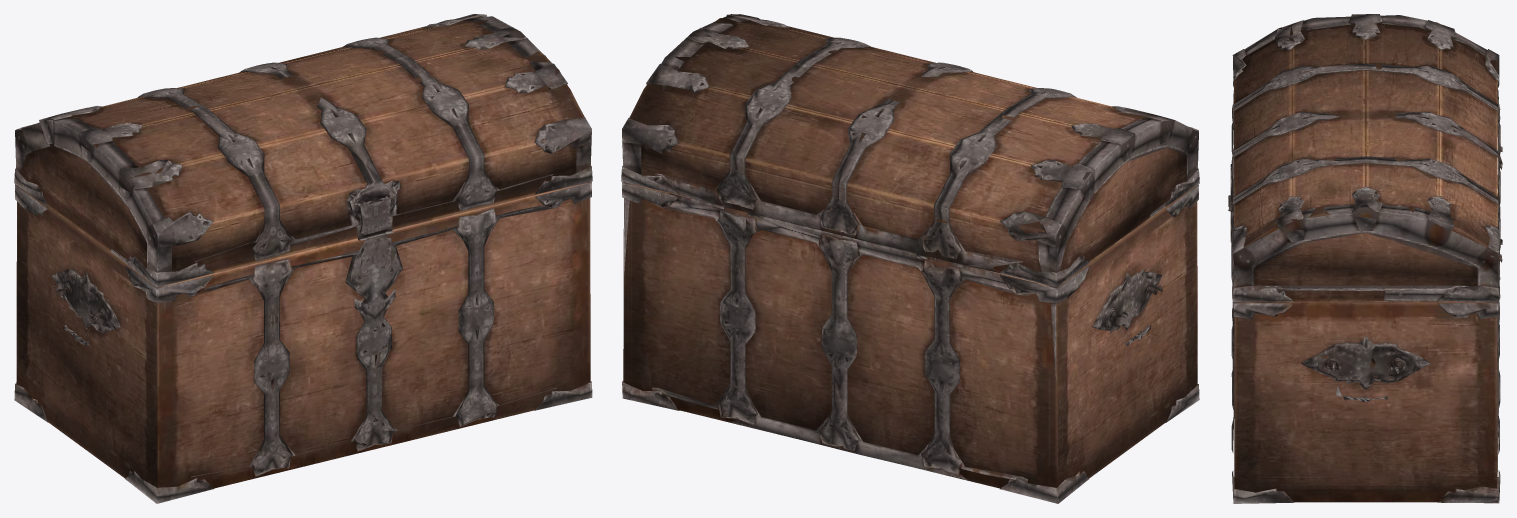
Rendered from treasure_chest.glb.
3 views of the same model, side by side, from view 1: azimuth 30°, elevation 25°; view 2: azimuth 150°, elevation 25°; view 3: azimuth 270°, elevation 25° (orthographic). The views are drawn at different scales.
Parts seen in each view (by area): view 1: treasure_chest_bottom; view 2: treasure_chest_bottom; view 3: treasure_chest_bottom.
Boxes of the visible parts, x1,y1,x2,y2 form: treasure_chest_bottom: [14, 14, 592, 503]; treasure_chest_bottom: [621, 14, 1199, 503]; treasure_chest_bottom: [1228, 14, 1502, 503].
Bounding box in the file's own units: 0.9493 × 0.6159 × 0.5222.
1 material, 1 textured.
